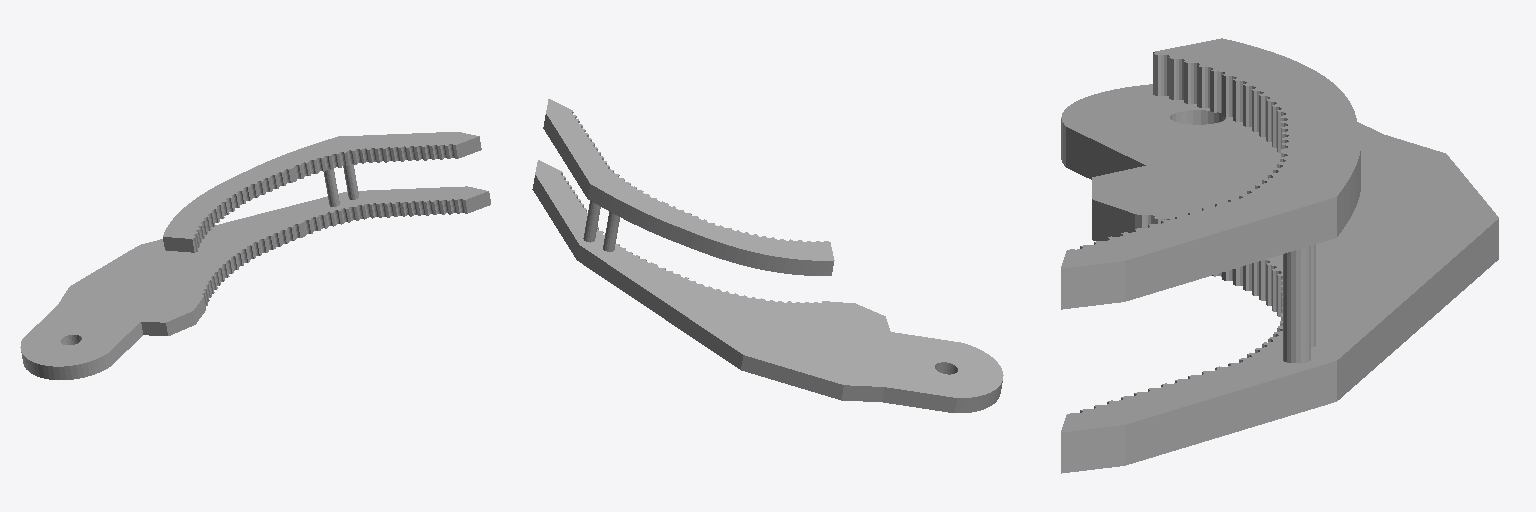
robot.urdf — angle_excurate_arm_ver2:
<?xml version="1.0" ?>
<!-- =================================================================================== -->
<!-- |    This document was autogenerated by xacro from urdf\angle_excurate_arm_ver2.xacro | -->
<!-- |    EDITING THIS FILE BY HAND IS NOT RECOMMENDED                                 | -->
<!-- =================================================================================== -->
<robot xmlns:xacro="http://www.ros.org/wiki/xacro" name="angle_excurate_arm_ver2">
  <material name="silver">
    <color rgba="0.700 0.700 0.700 1.000"/>
  </material>
  <transmission name="Revolute 1_tran">
    <type>transmission_interface/SimpleTransmission</type>
    <joint name="Revolute 1">
      <hardwareInterface>hardware_interface/EffortJointInterface</hardwareInterface>
    </joint>
    <actuator name="Revolute 1_actr">
      <hardwareInterface>hardware_interface/EffortJointInterface</hardwareInterface>
      <mechanicalReduction>1</mechanicalReduction>
    </actuator>
  </transmission>
  <transmission name="Revolute 2_tran">
    <type>transmission_interface/SimpleTransmission</type>
    <joint name="Revolute 2">
      <hardwareInterface>hardware_interface/EffortJointInterface</hardwareInterface>
    </joint>
    <actuator name="Revolute 2_actr">
      <hardwareInterface>hardware_interface/EffortJointInterface</hardwareInterface>
      <mechanicalReduction>1</mechanicalReduction>
    </actuator>
  </transmission>
  <transmission name="Revolute 3_tran">
    <type>transmission_interface/SimpleTransmission</type>
    <joint name="Revolute 3">
      <hardwareInterface>hardware_interface/EffortJointInterface</hardwareInterface>
    </joint>
    <actuator name="Revolute 3_actr">
      <hardwareInterface>hardware_interface/EffortJointInterface</hardwareInterface>
      <mechanicalReduction>1</mechanicalReduction>
    </actuator>
  </transmission>
  <transmission name="Revolute 4_tran">
    <type>transmission_interface/SimpleTransmission</type>
    <joint name="Revolute 4">
      <hardwareInterface>hardware_interface/EffortJointInterface</hardwareInterface>
    </joint>
    <actuator name="Revolute 4_actr">
      <hardwareInterface>hardware_interface/EffortJointInterface</hardwareInterface>
      <mechanicalReduction>1</mechanicalReduction>
    </actuator>
  </transmission>
  <transmission name="Revolute 5_tran">
    <type>transmission_interface/SimpleTransmission</type>
    <joint name="Revolute 5">
      <hardwareInterface>hardware_interface/EffortJointInterface</hardwareInterface>
    </joint>
    <actuator name="Revolute 5_actr">
      <hardwareInterface>hardware_interface/EffortJointInterface</hardwareInterface>
      <mechanicalReduction>1</mechanicalReduction>
    </actuator>
  </transmission>
  <transmission name="Revolute 6_tran">
    <type>transmission_interface/SimpleTransmission</type>
    <joint name="Revolute 6">
      <hardwareInterface>hardware_interface/EffortJointInterface</hardwareInterface>
    </joint>
    <actuator name="Revolute 6_actr">
      <hardwareInterface>hardware_interface/EffortJointInterface</hardwareInterface>
      <mechanicalReduction>1</mechanicalReduction>
    </actuator>
  </transmission>
  <gazebo>
    <plugin name="control" filename="libgazebo_ros_control.so"/>
  </gazebo>
  <gazebo reference="base_link">
    <material>Gazebo/Silver</material>
    <mu1>0.2</mu1>
    <mu2>0.2</mu2>
    <selfCollide>true</selfCollide>
    <gravity>true</gravity>
  </gazebo>
  <gazebo reference="base_link2_v2_1">
    <material>Gazebo/Silver</material>
    <mu1>0.2</mu1>
    <mu2>0.2</mu2>
    <selfCollide>true</selfCollide>
  </gazebo>
  <gazebo reference="link3_v1_1">
    <material>Gazebo/Silver</material>
    <mu1>0.2</mu1>
    <mu2>0.2</mu2>
    <selfCollide>true</selfCollide>
  </gazebo>
  <gazebo reference="link4_v1_1">
    <material>Gazebo/Silver</material>
    <mu1>0.2</mu1>
    <mu2>0.2</mu2>
    <selfCollide>true</selfCollide>
  </gazebo>
  <gazebo reference="robot_ver7_link_4_v1_1">
    <material>Gazebo/Silver</material>
    <mu1>0.2</mu1>
    <mu2>0.2</mu2>
    <selfCollide>true</selfCollide>
  </gazebo>
  <gazebo reference="robot_ver7_grap2_2_v1_1">
    <material>Gazebo/Silver</material>
    <mu1>0.2</mu1>
    <mu2>0.2</mu2>
    <selfCollide>true</selfCollide>
  </gazebo>
  <gazebo reference="robot_ver7_grap1_2_v1_1">
    <material>Gazebo/Silver</material>
    <mu1>0.2</mu1>
    <mu2>0.2</mu2>
    <selfCollide>true</selfCollide>
  </gazebo>
  <gazebo reference="base_link_2_1">
    <material>Gazebo/Silver</material>
    <mu1>0.2</mu1>
    <mu2>0.2</mu2>
    <selfCollide>true</selfCollide>
  </gazebo>
  <link name="base_link">
    <inertial>
      <origin xyz="1.8745796736605483e-12 -2.6846557552026664e-18 0.04000014999999999" rpy="0 0 0"/>
      <mass value="7.925585093654501e-07"/>
      <inertia ixx="0.0" iyy="0.0" izz="0.0" ixy="-0.0" iyz="-0.0" ixz="-0.0"/>
    </inertial>
    <visual>
      <origin xyz="0 0 0" rpy="0 0 0"/>
      <geometry>
        <mesh filename="robot_arm_mesh/base_link.stl" scale="0.001 0.001 0.001"/>
      </geometry>
      <material name="silver"/>
    </visual>
    <collision>
      <origin xyz="0 0 0" rpy="0 0 0"/>
      <geometry>
        <mesh filename="robot_arm_mesh/base_link.stl" scale="0.001 0.001 0.001"/>
      </geometry>
    </collision>
  </link>
  <link name="base_link2_v2_1">
    <inertial>
      <origin xyz="-5.553953613832533e-14 1.6607364926774611e-07 0.04484512943360931" rpy="0 0 0"/>
      <mass value="0.8724221516717809"/>
      <inertia ixx="0.000636" iyy="0.000529" izz="0.000308" ixy="0.0" iyz="0.0" ixz="0.0"/>
    </inertial>
    <visual>
      <origin xyz="0.0 -0.0 -0.076" rpy="0 0 0"/>
      <geometry>
        <mesh filename="robot_arm_mesh/base_link2_v2_1.stl" scale="0.001 0.001 0.001"/>
      </geometry>
      <material name="silver"/>
    </visual>
    <collision>
      <origin xyz="0.0 -0.0 -0.076" rpy="0 0 0"/>
      <geometry>
        <mesh filename="robot_arm_mesh/base_link2_v2_1.stl" scale="0.001 0.001 0.001"/>
      </geometry>
    </collision>
  </link>
  <link name="link3_v1_1">
    <inertial>
      <origin xyz="0.08484392825641267 8.013781706481686e-08 0.10111325630955267" rpy="0 0 0"/>
      <mass value="1.7894494256516058"/>
      <inertia ixx="0.00475" iyy="0.007559" izz="0.003484" ixy="-0.0" iyz="-0.0" ixz="-0.003589"/>
    </inertial>
    <visual>
      <origin xyz="0.0 0.0 -0.146342" rpy="0 0 0"/>
      <geometry>
        <mesh filename="robot_arm_mesh/link3_v1_1.stl" scale="0.001 0.001 0.001"/>
      </geometry>
      <material name="silver"/>
    </visual>
    <collision>
      <origin xyz="0.0 0.0 -0.146342" rpy="0 0 0"/>
      <geometry>
        <mesh filename="robot_arm_mesh/link3_v1_1.stl" scale="0.001 0.001 0.001"/>
      </geometry>
    </collision>
  </link>
  <link name="link4_v1_1">
    <inertial>
      <origin xyz="0.14822703980623636 -1.61812620875914e-09 0.017829758669321516" rpy="0 0 0"/>
      <mass value="2.301167222256875"/>
      <inertia ixx="0.001028" iyy="0.010731" izz="0.010331" ixy="0.0" iyz="0.0" ixz="-0.000548"/>
    </inertial>
    <visual>
      <origin xyz="-0.137776 0.0 -0.310538" rpy="0 0 0"/>
      <geometry>
        <mesh filename="robot_arm_mesh/link4_v1_1.stl" scale="0.001 0.001 0.001"/>
      </geometry>
      <material name="silver"/>
    </visual>
    <collision>
      <origin xyz="-0.137776 0.0 -0.310538" rpy="0 0 0"/>
      <geometry>
        <mesh filename="robot_arm_mesh/link4_v1_1.stl" scale="0.001 0.001 0.001"/>
      </geometry>
    </collision>
  </link>
  <link name="robot_ver7_link_4_v1_1">
    <inertial>
      <origin xyz="0.017892495703134614 -1.618123421275575e-09 0.00315495193392884" rpy="0 0 0"/>
      <mass value="0.1836674229836172"/>
      <inertia ixx="9.9e-05" iyy="0.000103" izz="7.2e-05" ixy="0.0" iyz="0.0" ixz="5e-06"/>
    </inertial>
    <visual>
      <origin xyz="-0.36806 0.0 -0.352664" rpy="0 0 0"/>
      <geometry>
        <mesh filename="robot_arm_mesh/robot_ver7_link_4_v1_1.stl" scale="0.001 0.001 0.001"/>
      </geometry>
      <material name="silver"/>
    </visual>
    <collision>
      <origin xyz="-0.36806 0.0 -0.352664" rpy="0 0 0"/>
      <geometry>
        <mesh filename="robot_arm_mesh/robot_ver7_link_4_v1_1.stl" scale="0.001 0.001 0.001"/>
      </geometry>
    </collision>
  </link>
  <link name="robot_ver7_grap2_2_v1_1">
    <inertial>
      <origin xyz="0.03188464924792617 -0.0055870722111964685 0.00827502813362846" rpy="0 0 0"/>
      <mass value="0.04062678364092949"/>
      <inertia ixx="4e-06" iyy="2.6e-05" izz="2.5e-05" ixy="-0.0" iyz="-0.0" ixz="-6e-06"/>
    </inertial>
    <visual>
      <origin xyz="-0.409619 0.0125 -0.359992" rpy="0 0 0"/>
      <geometry>
        <mesh filename="robot_arm_mesh/robot_ver7_grap2_2_v1_1.stl" scale="0.001 0.001 0.001"/>
      </geometry>
      <material name="silver"/>
    </visual>
    <collision>
      <origin xyz="-0.409619 0.0125 -0.359992" rpy="0 0 0"/>
      <geometry>
        <mesh filename="robot_arm_mesh/robot_ver7_grap2_2_v1_1.stl" scale="0.001 0.001 0.001"/>
      </geometry>
    </collision>
  </link>
  <link name="robot_ver7_grap1_2_v1_1">
    <inertial>
      <origin xyz="0.03188464924792689 0.005587068974950284 0.008275028133628792" rpy="0 0 0"/>
      <mass value="0.040626783640931655"/>
      <inertia ixx="4e-06" iyy="2.6e-05" izz="2.5e-05" ixy="0.0" iyz="0.0" ixz="-6e-06"/>
    </inertial>
    <visual>
      <origin xyz="-0.409619 -0.0125 -0.359992" rpy="0 0 0"/>
      <geometry>
        <mesh filename="robot_arm_mesh/robot_ver7_grap1_2_v1_1.stl" scale="0.001 0.001 0.001"/>
      </geometry>
      <material name="silver"/>
    </visual>
    <collision>
      <origin xyz="-0.409619 -0.0125 -0.359992" rpy="0 0 0"/>
      <geometry>
        <mesh filename="robot_arm_mesh/robot_ver7_grap1_2_v1_1.stl" scale="0.001 0.001 0.001"/>
      </geometry>
    </collision>
  </link>
  <link name="base_link_2_1">
    <inertial>
      <origin xyz="-7.6976007193707615e-16 1.23599521765243e-16 -0.010056885130538304" rpy="0 0 0"/>
      <mass value="1.6067306789990348"/>
      <inertia ixx="0.003521" iyy="0.006468" izz="0.008802" ixy="0.0" iyz="-0.0" ixz="0.0"/>
    </inertial>
    <visual>
      <origin xyz="-0.0 -0.0 -0.04" rpy="0 0 0"/>
      <geometry>
        <mesh filename="robot_arm_mesh/base_link_2_1.stl" scale="0.001 0.001 0.001"/>
      </geometry>
      <material name="silver"/>
    </visual>
    <collision>
      <origin xyz="-0.0 -0.0 -0.04" rpy="0 0 0"/>
      <geometry>
        <mesh filename="robot_arm_mesh/base_link_2_1.stl" scale="0.001 0.001 0.001"/>
      </geometry>
    </collision>
  </link>
  <joint name="Revolute 1" type="revolute">
    <origin xyz="-0.0 0.0 0.036" rpy="0 0 0"/>
    <parent link="base_link_2_1"/>
    <child link="base_link2_v2_1"/>
    <axis xyz="0.0 -0.0 1.0"/>
    <limit upper="3.141593" lower="0.0" effort="100" velocity="100"/>
  </joint>
  <joint name="Revolute 2" type="revolute">
    <origin xyz="0.0 -0.0 0.070342" rpy="0 0 0"/>
    <parent link="base_link2_v2_1"/>
    <child link="link3_v1_1"/>
    <axis xyz="-0.0 -1.0 0.0"/>
    <limit upper="2.094395" lower="0.0" effort="100" velocity="100"/>
  </joint>
  <joint name="Revolute 3" type="revolute">
    <origin xyz="0.137776 0.0 0.164196" rpy="0 0 0"/>
    <parent link="link3_v1_1"/>
    <child link="link4_v1_1"/>
    <axis xyz="-0.0 -1.0 0.0"/>
    <limit upper="2.617994" lower="0.0" effort="100" velocity="100"/>
  </joint>
  <joint name="Revolute 4" type="revolute">
    <origin xyz="0.230284 0.0 0.042126" rpy="0 0 0"/>
    <parent link="link4_v1_1"/>
    <child link="robot_ver7_link_4_v1_1"/>
    <axis xyz="0.984808 0.0 0.173648"/>
    <limit upper="3.141593" lower="0.0" effort="100" velocity="100"/>
  </joint>
  <joint name="Revolute 5" type="revolute">
    <origin xyz="0.041559 -0.0125 0.007328" rpy="0 0 0"/>
    <parent link="robot_ver7_link_4_v1_1"/>
    <child link="robot_ver7_grap2_2_v1_1"/>
    <axis xyz="0.173648 -0.0 -0.984808"/>
    <limit upper="1.22173" lower="0.0" effort="100" velocity="100"/>
  </joint>
  <joint name="Revolute 6" type="revolute">
    <origin xyz="0.041559 0.0125 0.007328" rpy="0 0 0"/>
    <parent link="robot_ver7_link_4_v1_1"/>
    <child link="robot_ver7_grap1_2_v1_1"/>
    <axis xyz="-0.173648 0.0 0.984808"/>
    <limit upper="1.22173" lower="0.0" effort="100" velocity="100"/>
  </joint>
  <joint name="Rigid 8" type="fixed">
    <origin xyz="0.0 0.0 0.04" rpy="0 0 0"/>
    <parent link="base_link"/>
    <child link="base_link_2_1"/>
  </joint>
</robot>

--- Render facts (derived) ---
Views: 3 orthographic renders of the robot side by side, from view 1: azimuth 30°, elevation 25°; view 2: azimuth 150°, elevation 25°; view 3: azimuth 270°, elevation 25°.
Model angle_excurate_arm_ver2 with 8 links and 7 joints (6 revolute, 1 fixed), rooted at base_link, posed all joints at 0.
Links seen in each view (by area): view 1: robot_ver7_grap1_2_v1_1; view 2: robot_ver7_grap1_2_v1_1; view 3: robot_ver7_grap1_2_v1_1.
Link boxes in pixels (<box>): robot_ver7_grap1_2_v1_1: <box>20,132,490,379</box>; robot_ver7_grap1_2_v1_1: <box>532,99,1003,412</box>; robot_ver7_grap1_2_v1_1: <box>1061,38,1498,473</box>.
Size in the robot's own frame: 0.0949 by 0.031 by 0.0314 metres.
Meshes: 8 distinct files referenced, 1 mesh visuals loaded (1 binary STL); not drawn: 7 (reference not matched to a file when rendering).